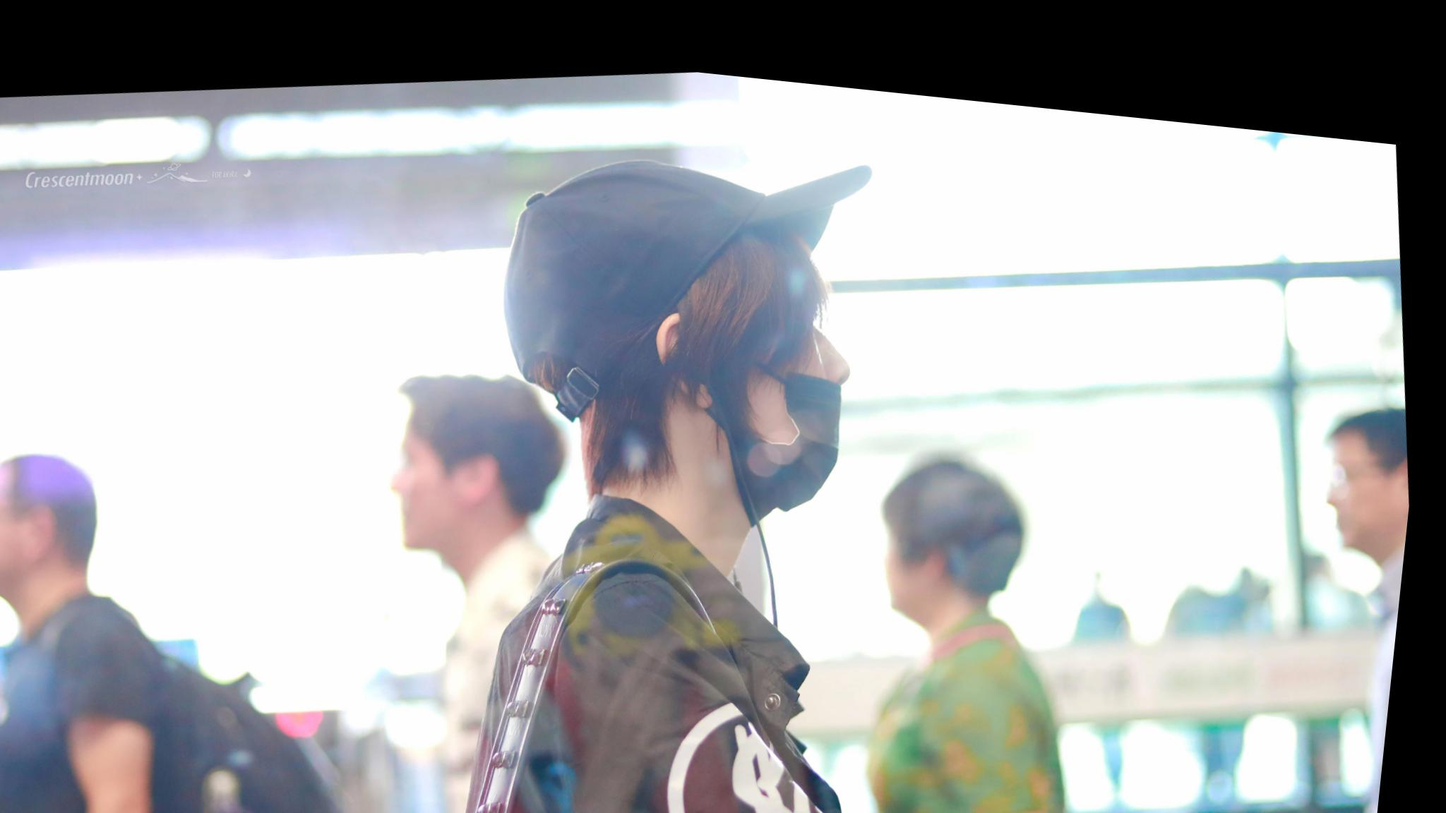NONE: (388, 411, 479, 547), (1320, 413, 1399, 529), (1, 468, 47, 598)
WRONG: (733, 245, 885, 504)
